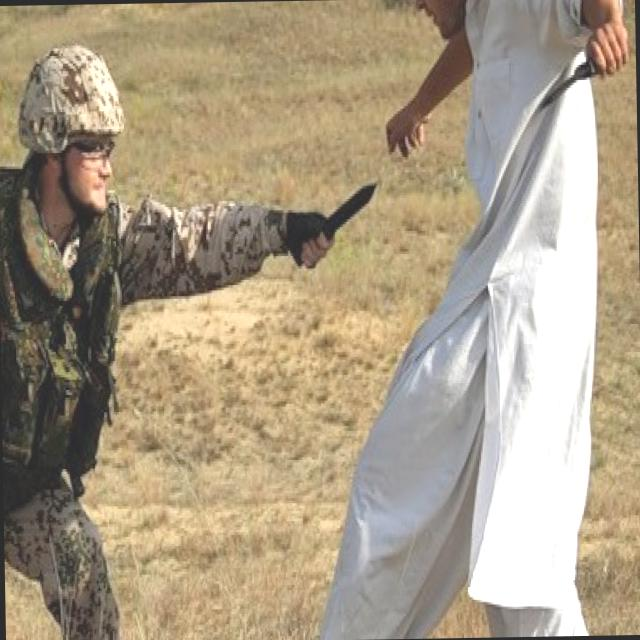knife: (292, 164, 382, 268)
